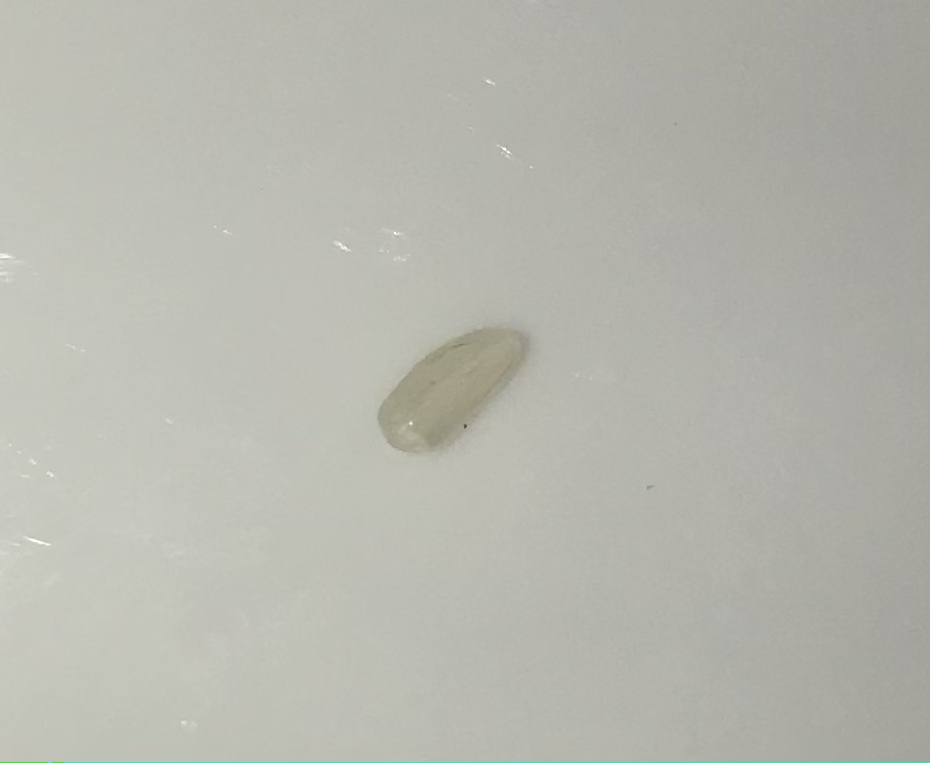Gao Tam: (375, 303, 536, 479)
